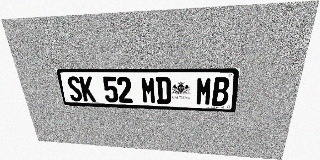2: (116, 77, 133, 103)
5: (102, 76, 119, 103)
B: (212, 77, 230, 106)
D: (156, 77, 171, 104)
K: (79, 76, 96, 102)
M: (196, 77, 213, 106), (141, 77, 156, 104)
S: (66, 76, 83, 101)
